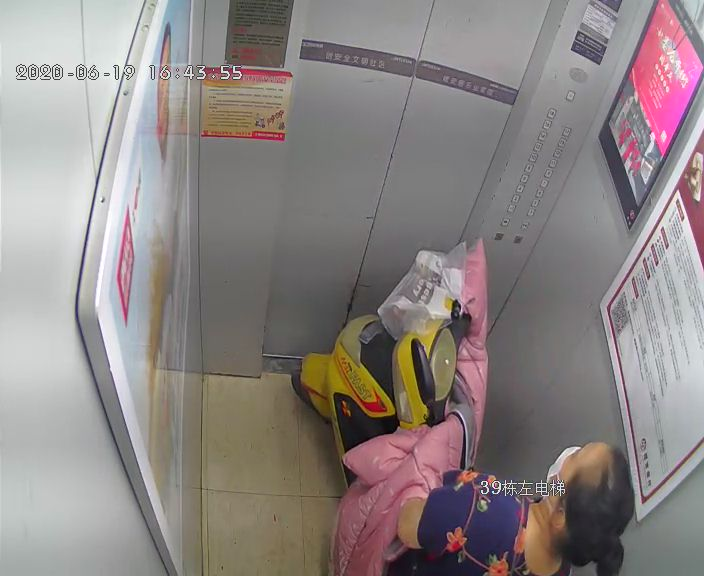Electric-bicycle: (294, 237, 496, 565)
